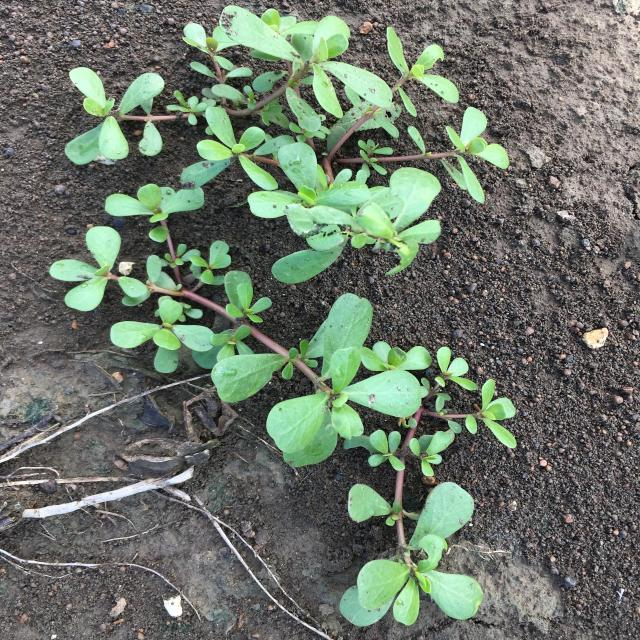Purslane: (49, 183, 518, 628), (64, 5, 510, 284)
